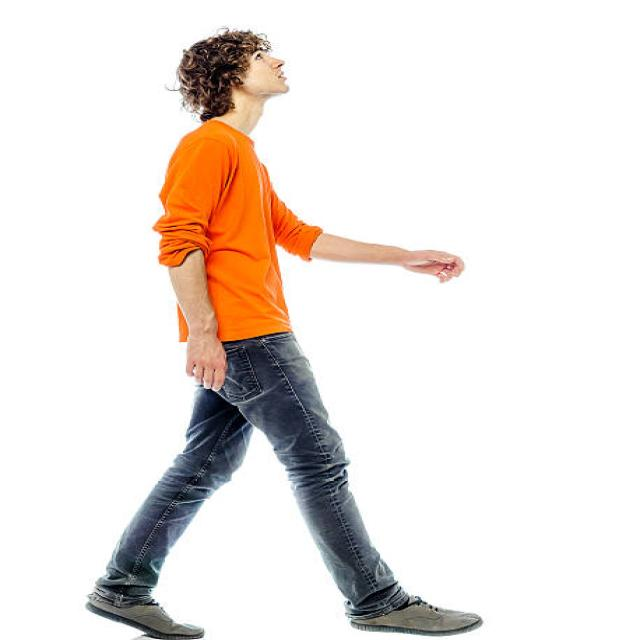Edited images: (76, 28, 499, 640)
